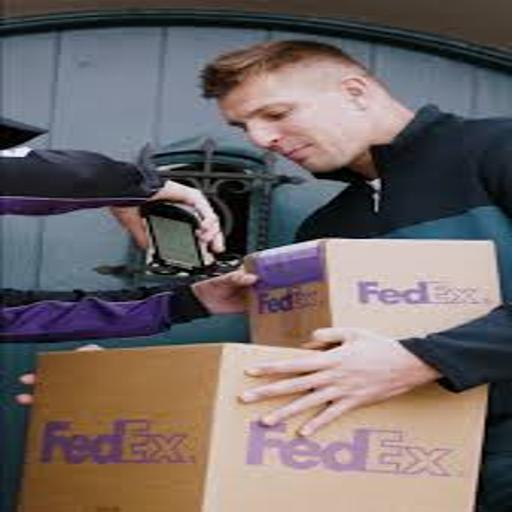FedEx: (38, 349, 484, 512), (245, 240, 506, 346)
